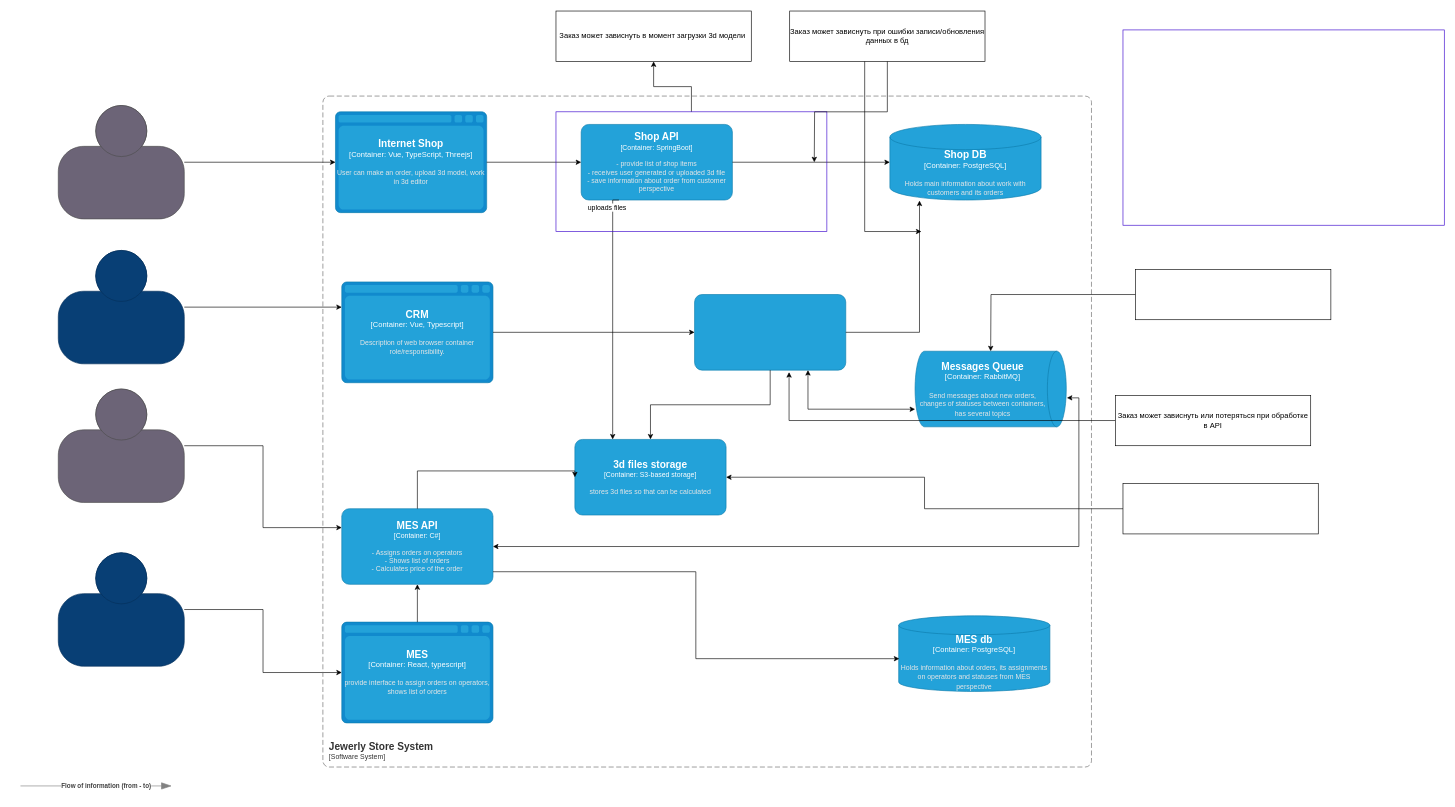
Image size: 1455x807. Some labels were removed from this diagram. The centre of each missing label's shape, as x and y in pixels:
API user [Person] Description of external person.: the point at 121,445
CRM API [Container: SpringBoot] Description of container role/responsibility.: the point at 770,332
Customer [Person] Description of external person.: the point at 121,162
Operator [Person] Takes order in work, manufactures jewerly: the point at 121,609
Seller [Person] Operates with order, confirms manufacturing for the user: the point at 121,307
Заказ может зависнуть или потеряться в очереди: the point at 1233,294
Заказ может зависнуть при запросе модели в 3S: the point at 1220,508
